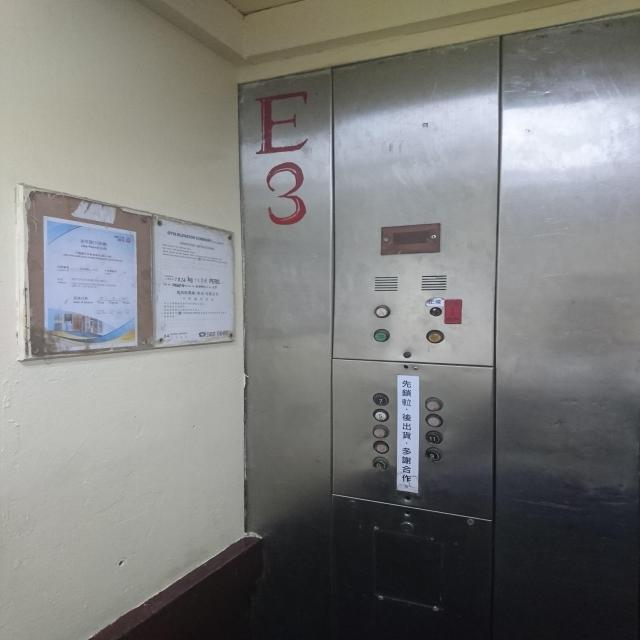11: (424, 429, 444, 445)
5: (372, 408, 389, 422)
7: (372, 391, 389, 407)
9: (424, 446, 444, 462)
G: (372, 456, 389, 472)
blur: (372, 422, 389, 439), (425, 396, 443, 412), (372, 439, 389, 455), (425, 413, 443, 428)
indicator: (429, 306, 442, 316), (403, 351, 411, 358)
keyhole: (401, 520, 414, 534)
text_alarm bell: (374, 304, 390, 318)
text_blur: (426, 329, 444, 343)
text_open door: (373, 328, 390, 343)
